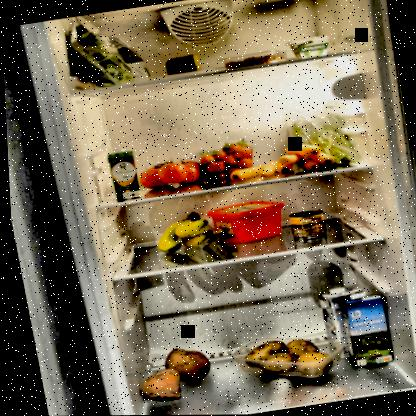banana: (147, 207, 228, 254)
butter: (201, 195, 290, 248)
carrot: (271, 138, 337, 176), (225, 161, 279, 184)
cheese: (161, 50, 205, 78)
corn: (285, 208, 325, 242)
green_beans: (280, 102, 362, 174)
heavy_cream: (103, 146, 141, 201)
milk: (336, 288, 394, 369), (314, 283, 371, 360)
potato: (233, 329, 334, 387)
shrimp: (222, 53, 287, 73)
spinach: (51, 7, 153, 96)
strawberries: (197, 139, 262, 184)
sweet_potato: (129, 343, 214, 408)
tomato: (134, 153, 207, 193)
